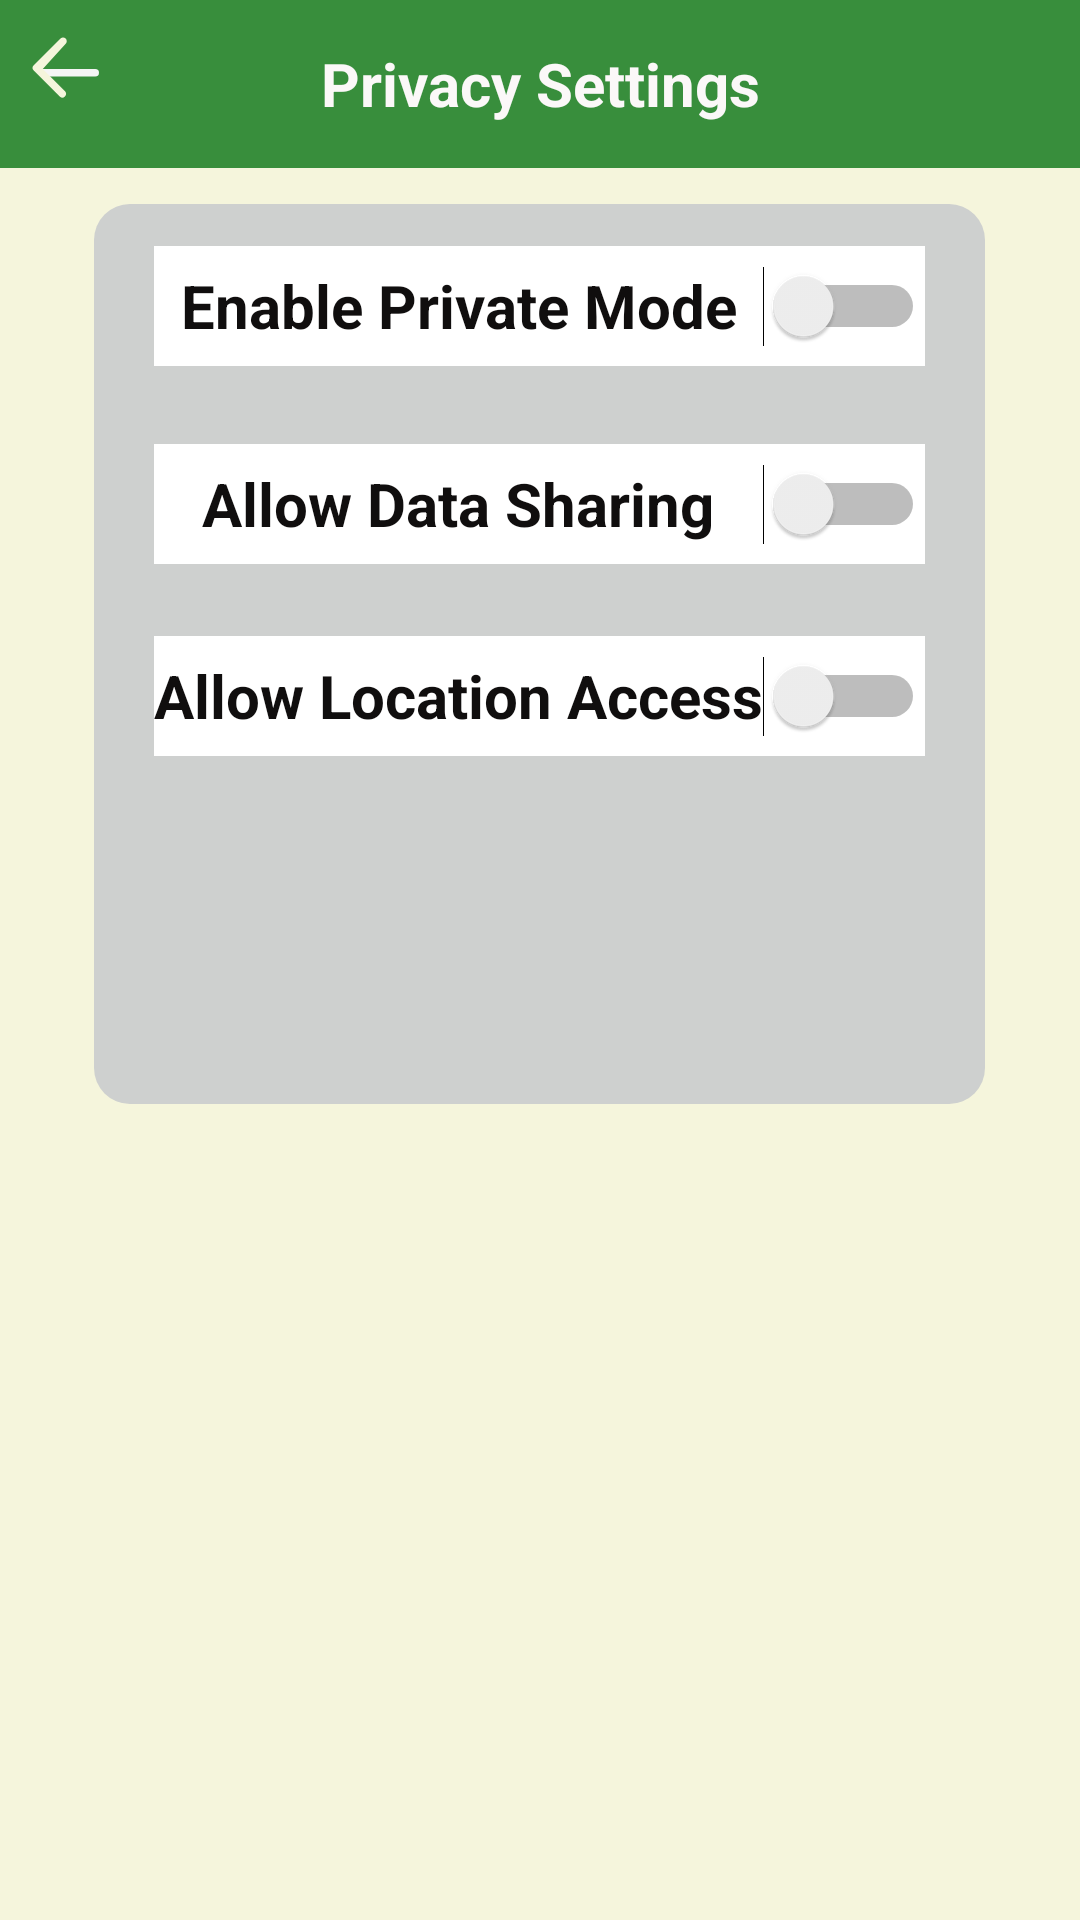

Locate icon controls on the screen. Image size 1080×1920, boxes as (x1, y1, x2, y2).
Back: (32, 37, 99, 98)
